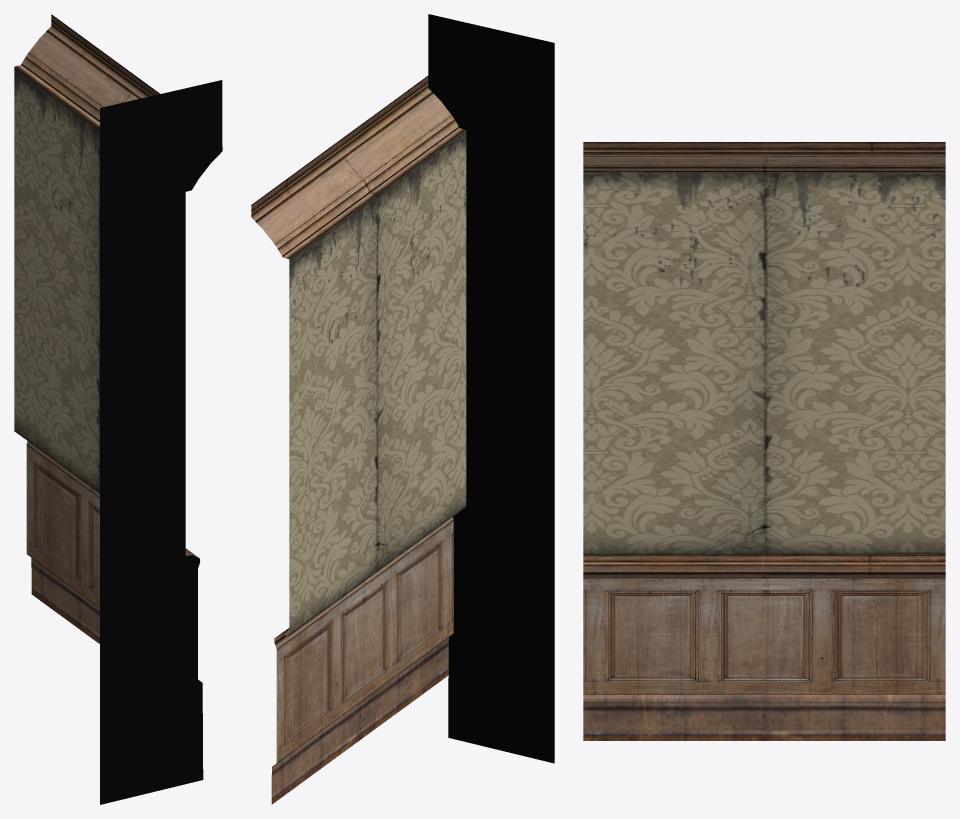
Rendered from Corridor_01_End.FBX.
The picture shows the model from 3 angles, left to right: view 1: azimuth 30°, elevation 25°; view 2: azimuth 150°, elevation 25°; view 3: azimuth 270°, elevation 25°; orthographic projection. The views are drawn at different scales.
Parts seen in each view (by area): view 1: SideWall; view 2: SideWall; view 3: SideWall.
Part boxes in pixels (x1,y1,x2,y2): SideWall: (14, 14, 222, 804); SideWall: (251, 14, 554, 804); SideWall: (583, 142, 945, 740).
Size of the model in its own units: 18.41 by 100 by 44.59.
Materials: 3 (2 with a texture image).
